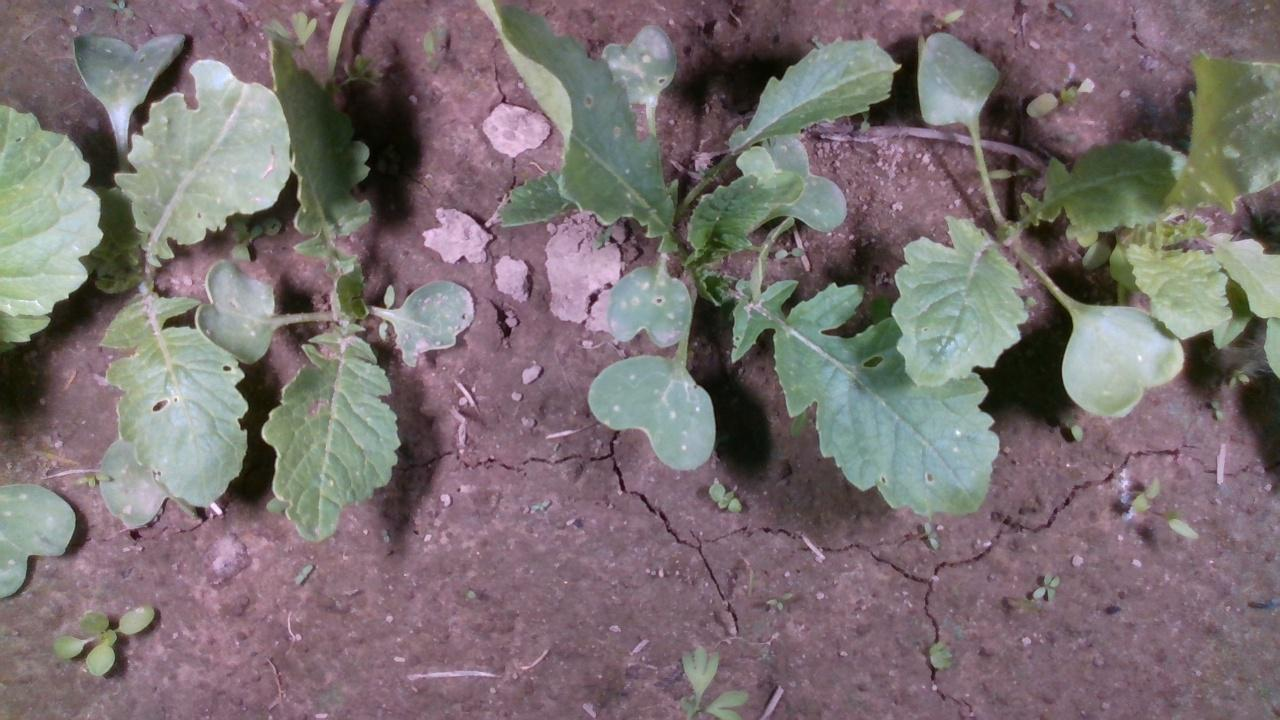weed: (1028, 568, 1060, 604)
